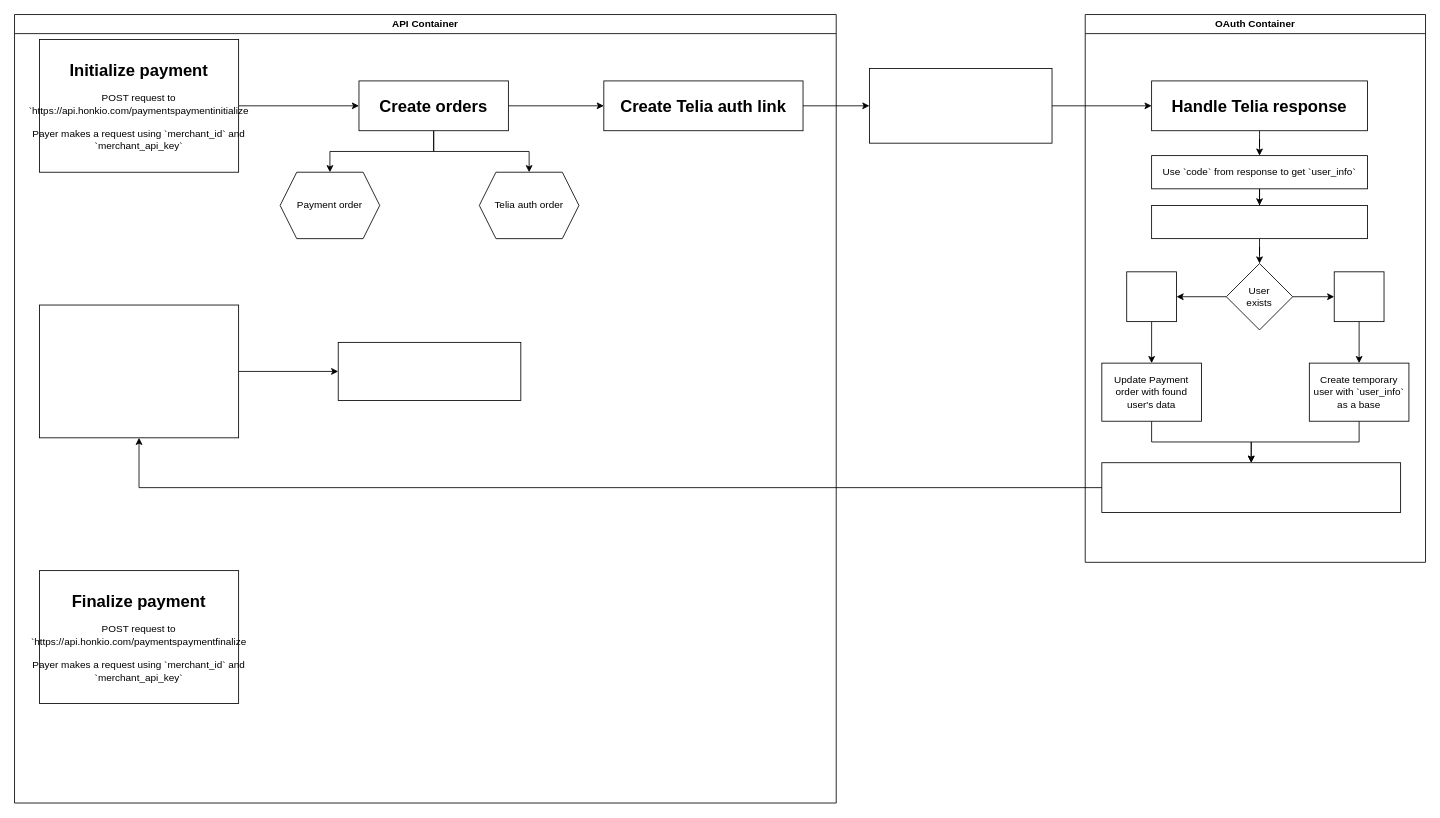
Image size: 1440x818. Some labels were removed from this diagram. The centre of each missing label's shape, as x and y in pixels:
"Call bank API transfer funds from Payer to Merchant" goes at [429,371].
"Execute payment" goes at [1251,487].
"Execute payment POST request to `https://api.honkio.com/paymentspaymentexecute" goes at [139,371].
"No" goes at [1358,296].
"Telia authentication Redirects with the `code` parameter" goes at [960,105].
"Try to find existing user with that data" goes at [1259,222].
"Yes" goes at [1151,296].
